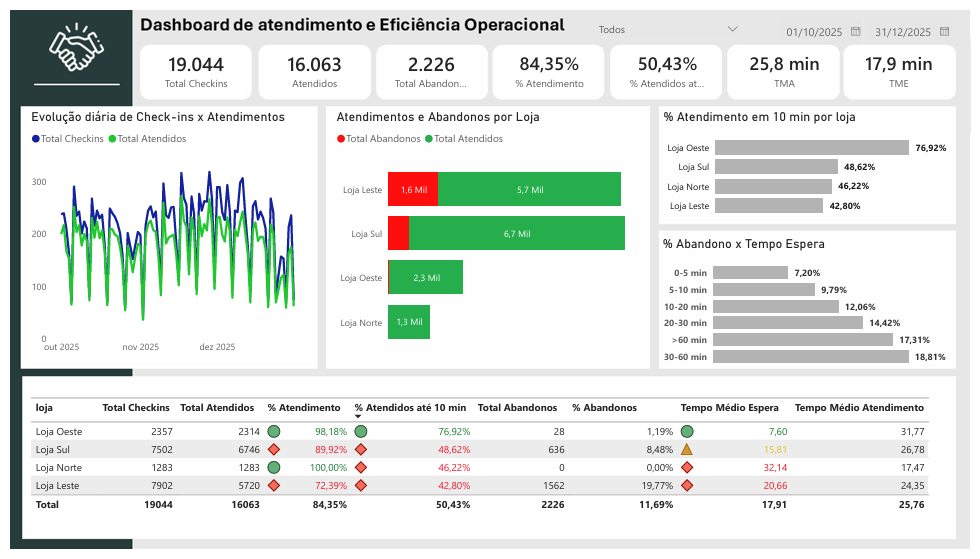

This screenshot's page, from the dashboard's own definition file:
{"tool":"powerbi","page":{"name":"Visão Geral","canvas":[1280,720],"ordinal":0},"visuals":[{"type":"cardVisual","fields":{"Data":["base_consolidada.Total Checkins"]},"box":[175.7,41.8,142.6,73.4],"z":0},{"type":"lineChart","title":"Evolução diária de Check-ins x Atendimentos","fields":{"Y":["base_consolidada.Total Checkins","base_consolidada.Total Atendidos"],"Category":["base_consolidada.Data.Variation.Hierarquia de datas.Ano","base_consolidada.Data.Variation.Hierarquia de datas.Mês","base_consolidada.Data.Variation.Hierarquia de datas.Dia"]},"box":[21.7,131.3,384.3,336.1],"z":1000},{"type":"slicer","fields":{"Values":["base_consolidada.loja"]},"box":[767.5,0,217.4,41.8],"z":2000},{"type":"slicer","title":"Loja","fields":{"Values":["base_consolidada.checkin"]},"box":[1012.3,0,252,41.8],"z":3000},{"type":"barChart","title":"Atendimentos e Abandonos por Loja","fields":{"Category":["base_consolidada.loja"],"Y":["base_consolidada.Total Abandonos","base_consolidada.Total Atendidos"]},"box":[429.1,131,420.5,337],"z":4000},{"type":"clusteredBarChart","title":"% Atendimento em 10 min por loja","fields":{"Category":["base_consolidada.loja"],"Y":["base_consolidada.% Atendidos até 10 min"]},"box":[865.4,131,387.4,154.1],"z":5000},{"type":"clusteredBarChart","title":"% Abandono x Tempo Espera","fields":{"Category":["base_consolidada.Faixa Tempo Espera"],"Y":["base_consolidada.% Abandono por Faixa"]},"box":[864.2,300,388.1,183.6],"z":6000},{"type":"tableEx","fields":{"Values":["base_consolidada.loja","base_consolidada.Total Checkins","base_consolidada.Total Atendidos","base_consolidada.% Atendimento","base_consolidada.% Atendidos até 10 min","base_consolidada.Total Abandonos","base_consolidada.% Abandonos","base_consolidada.Tempo Médio Espera","base_consolidada.Tempo Médio Atendimento"]},"box":[21.6,511.2,1231.2,171.4],"z":7000},{"type":"cardVisual","fields":{"Data":["base_consolidada.Total Atendidos"]},"box":[334.1,41.8,142.6,73.4],"z":8000},{"type":"cardVisual","fields":{"Data":["base_consolidada.% Atendimento"]},"box":[649.4,41.8,138.2,73.4],"z":9000},{"type":"cardVisual","fields":{"Data":["base_consolidada.% Atendidos até 10 min"]},"box":[807.8,41.8,135.4,73.4],"z":10000},{"type":"cardVisual","fields":{"Data":["base_consolidada.Total Abandonos"]},"box":[495.4,41.8,131,73.4],"z":11000},{"type":"cardVisual","fields":{"Data":["base_consolidada.Tempo Médio Atendimento (Card)"]},"box":[959,41.8,145.4,73.4],"z":12000},{"type":"cardVisual","fields":{"Data":["base_consolidada.Tempo Médio Espera (Card)"]},"box":[1114.6,41.8,138.2,73.4],"z":13000}]}

Visuals, with their boxes in screenshot pixels (x1, y1, x2, y2), scaled from the page's 1280x720 canvas onto the 980x559 screenshot:
cardVisual - base_consolidada.Total Checkins: x1=135 y1=32 x2=244 y2=89
"Evolução diária de Check-ins x Atendimentos" lineChart: x1=17 y1=102 x2=311 y2=363
slicer - base_consolidada.loja: x1=588 y1=0 x2=754 y2=32
"Loja" slicer: x1=775 y1=0 x2=968 y2=32
"Atendimentos e Abandonos por Loja" barChart: x1=329 y1=102 x2=650 y2=363
"% Atendimento em 10 min por loja" clusteredBarChart: x1=663 y1=102 x2=959 y2=221
"% Abandono x Tempo Espera" clusteredBarChart: x1=662 y1=233 x2=959 y2=375
tableEx - base_consolidada.loja x base_consolidada.Total Checkins: x1=17 y1=397 x2=959 y2=530
cardVisual - base_consolidada.Total Atendidos: x1=256 y1=32 x2=365 y2=89
cardVisual - base_consolidada.% Atendimento: x1=497 y1=32 x2=603 y2=89
cardVisual - base_consolidada.% Atendidos até 10 min: x1=618 y1=32 x2=722 y2=89
cardVisual - base_consolidada.Total Abandonos: x1=379 y1=32 x2=480 y2=89
cardVisual - base_consolidada.Tempo Médio Atendimento (Card): x1=734 y1=32 x2=846 y2=89
cardVisual - base_consolidada.Tempo Médio Espera (Card): x1=853 y1=32 x2=959 y2=89
